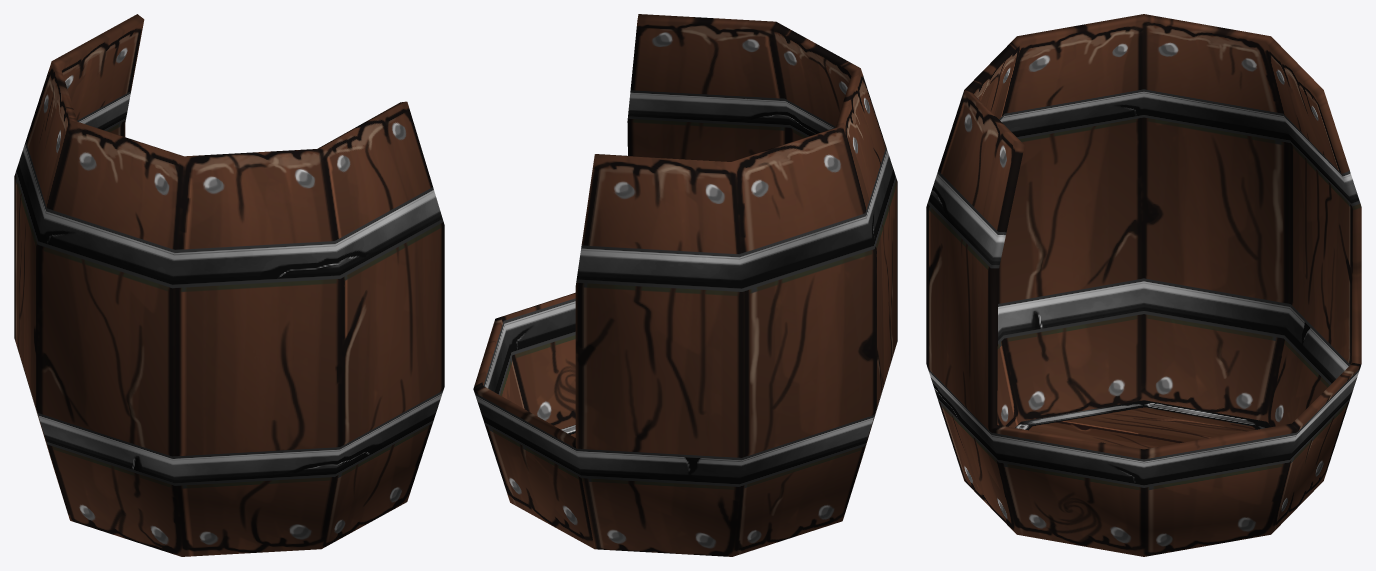
Rendered from Barrel_2.fbx.
3 renders of one model, left to right at view 1: azimuth 30°, elevation 25°; view 2: azimuth 150°, elevation 25°; view 3: azimuth 270°, elevation 25°, orthographic. The views are drawn at different scales.
Parts seen in each view (by area): view 1: Barrel_2; view 2: Barrel_2; view 3: Barrel_2.
Boxes of the visible parts, box(x1,y1,x2,y2) form: Barrel_2: box(14, 14, 444, 556); Barrel_2: box(473, 14, 897, 556); Barrel_2: box(926, 14, 1361, 556).
Bounding box in the file's own units: 1.39 × 1.38 × 1.39.
